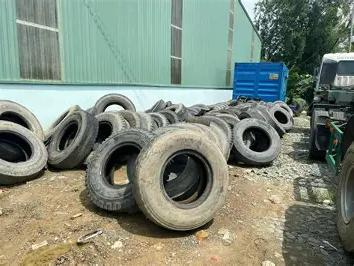ROAD_OBSTACLE: (0, 90, 294, 235), (134, 120, 229, 230)
